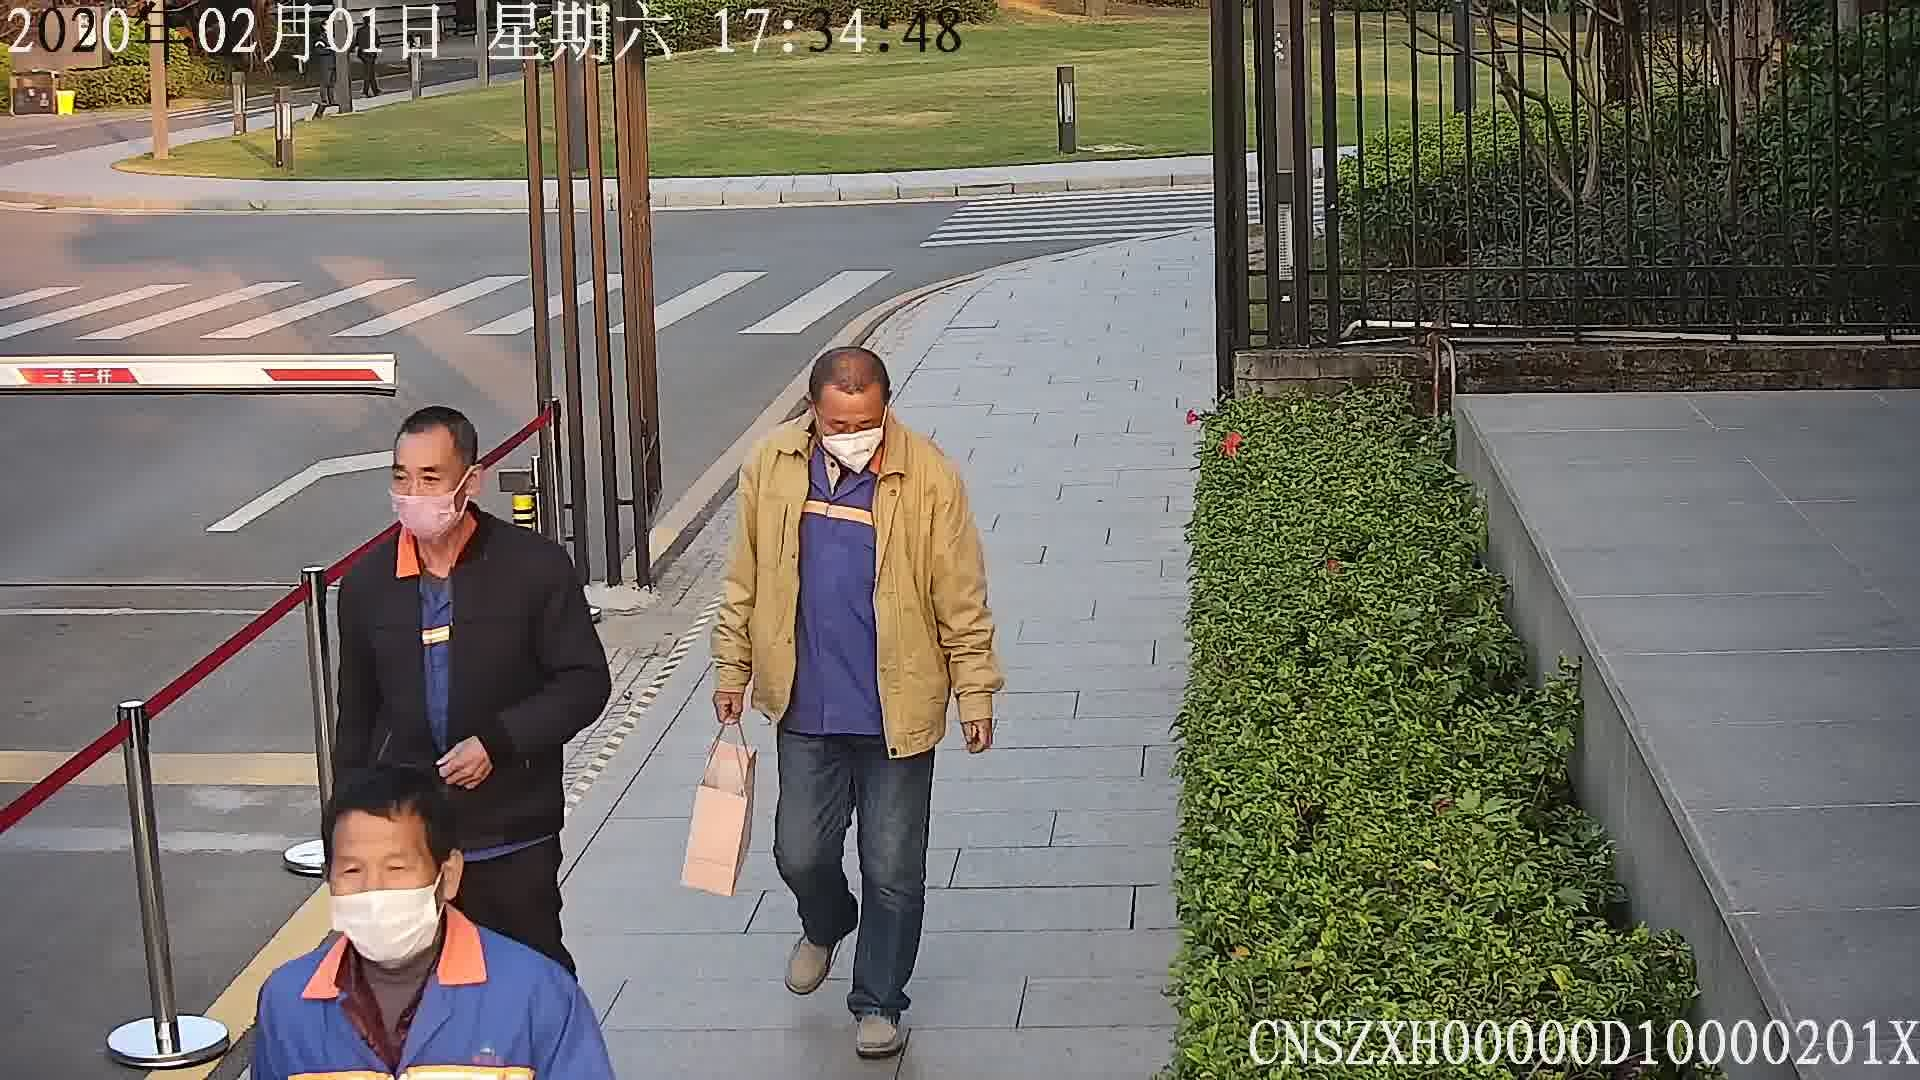face: (327, 814, 443, 966), (391, 429, 465, 545), (816, 383, 884, 471)
mask: (329, 892, 436, 964), (392, 489, 461, 542), (823, 429, 884, 468)
person: (255, 762, 590, 1037), (335, 402, 587, 615), (736, 345, 970, 515)
